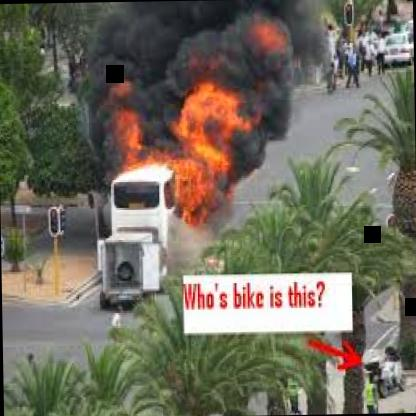fire: (84, 22, 278, 231)
